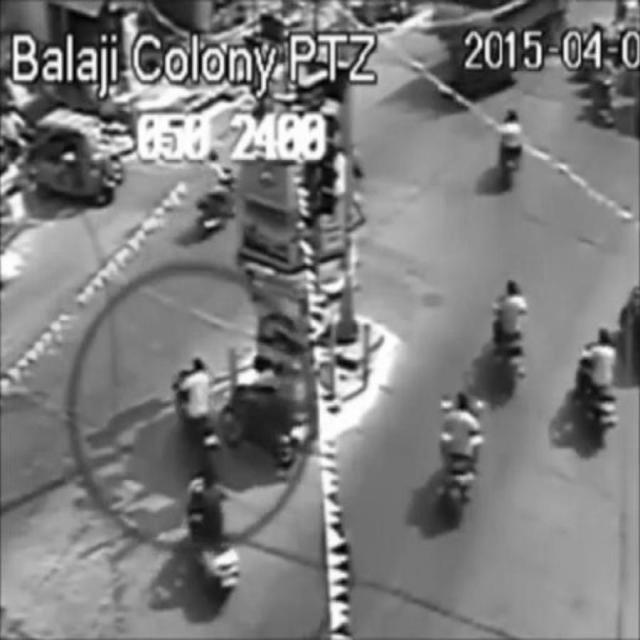vehicle: (228, 356, 296, 476), (37, 108, 114, 212), (188, 473, 238, 587), (442, 387, 483, 515), (172, 357, 219, 461), (491, 276, 529, 392), (579, 329, 617, 445), (197, 150, 241, 233), (493, 111, 525, 185)
